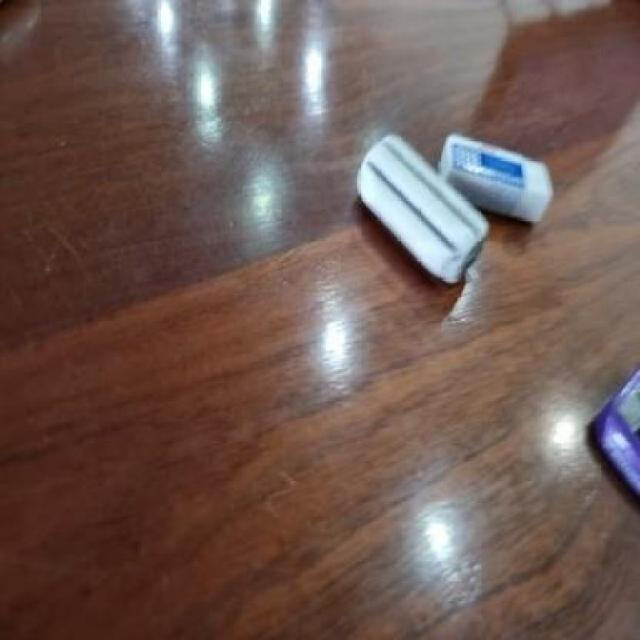not trash: (351, 140, 484, 282), (581, 364, 640, 518), (438, 134, 548, 215)
